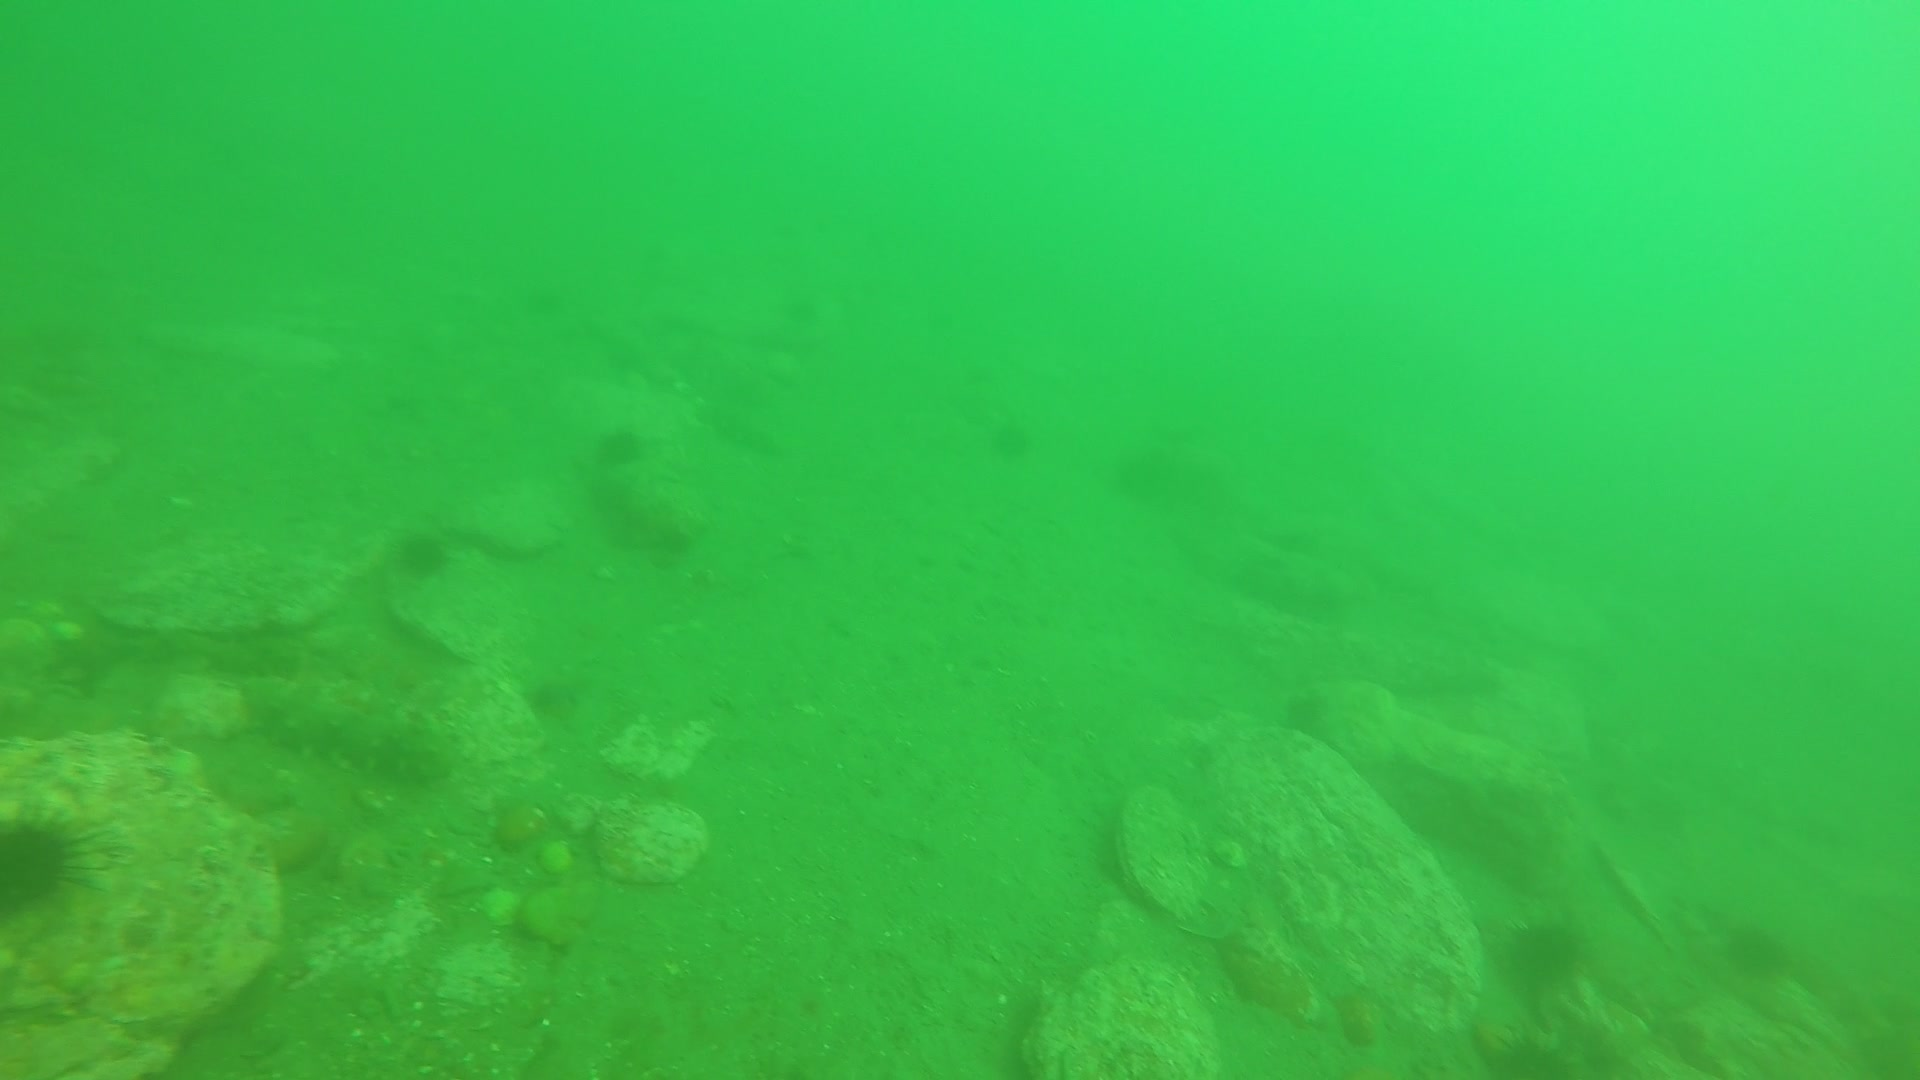echinus: (1, 807, 105, 918), (1501, 906, 1597, 992), (1725, 920, 1803, 988), (386, 518, 454, 584), (588, 422, 647, 483)
holothurian: (229, 675, 450, 781)
scallop: (94, 535, 353, 638), (1026, 951, 1217, 1080), (1110, 775, 1204, 918), (593, 789, 712, 886)
